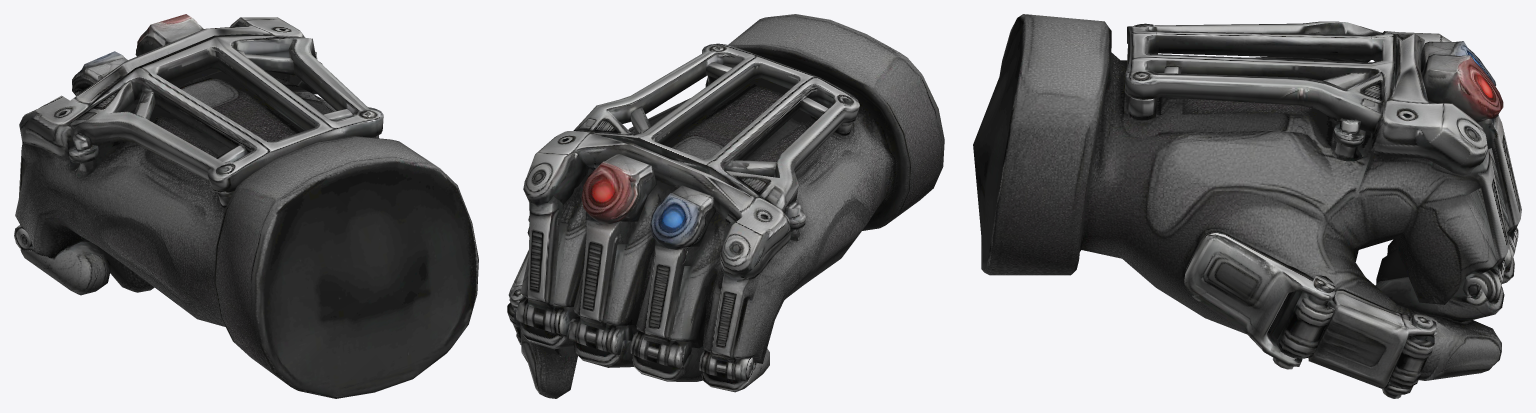
File: leftHandLow.glb
3 views of the same model, side by side, from view 1: azimuth 30°, elevation 25°; view 2: azimuth 150°, elevation 25°; view 3: azimuth 270°, elevation 25° (orthographic). The views are drawn at different scales.
Parts seen in each view (by area): view 1: left hand; view 2: left hand; view 3: left hand.
Boxes of the visible parts, <box> form: left hand: <box>14,14,478,398</box>; left hand: <box>507,14,944,398</box>; left hand: <box>973,14,1521,398</box>.
Size of the model in its own units: 0.1115 by 0.0928 by 0.1572.
1 material, 1 textured.
